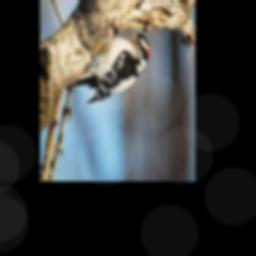Woodpecker: (67, 28, 149, 103)
